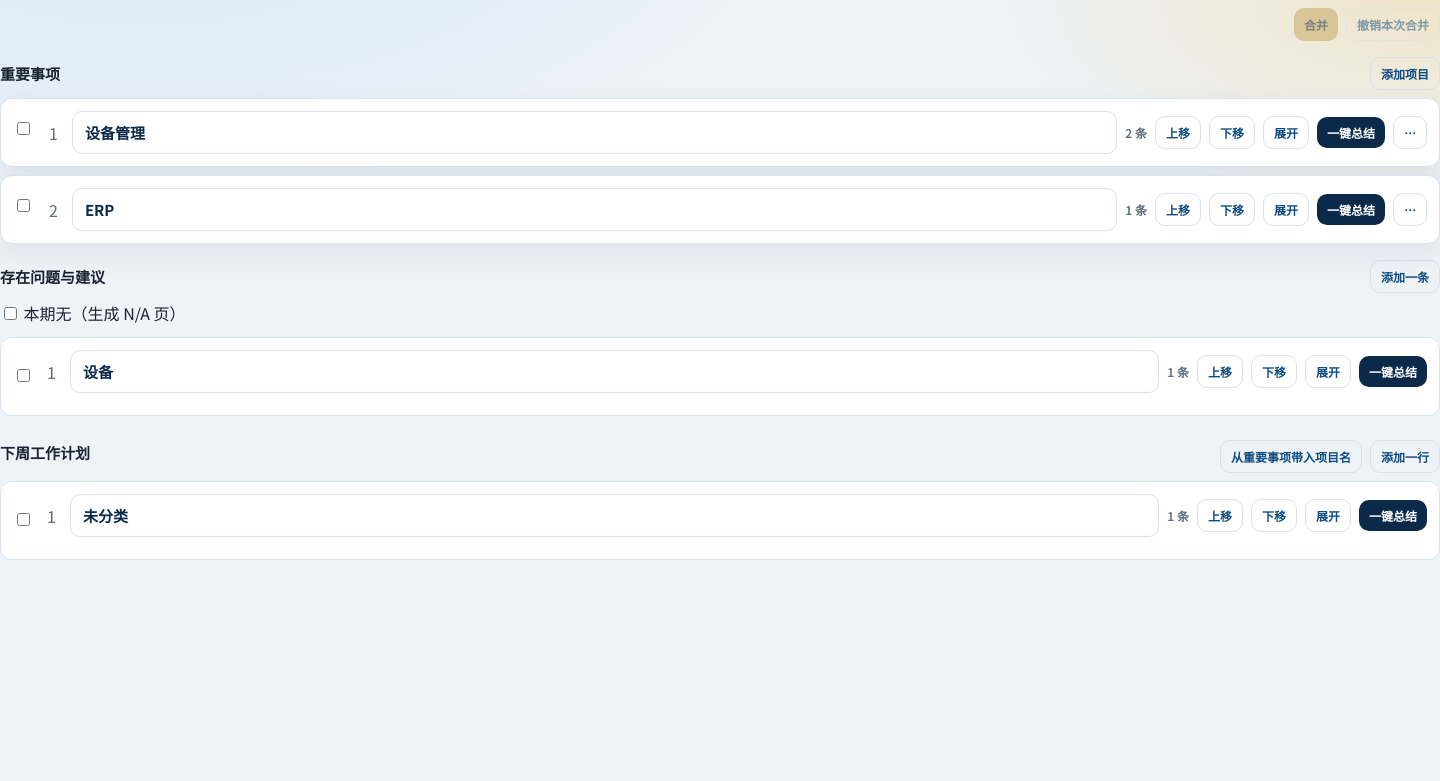
Test case: project bullets stay a single textarea › each expanded project keeps its own single textarea
The image size is (1440, 781).
Click the button with aria-label "展开 设备管理" at (1286, 132), box [1263, 116, 1309, 149]
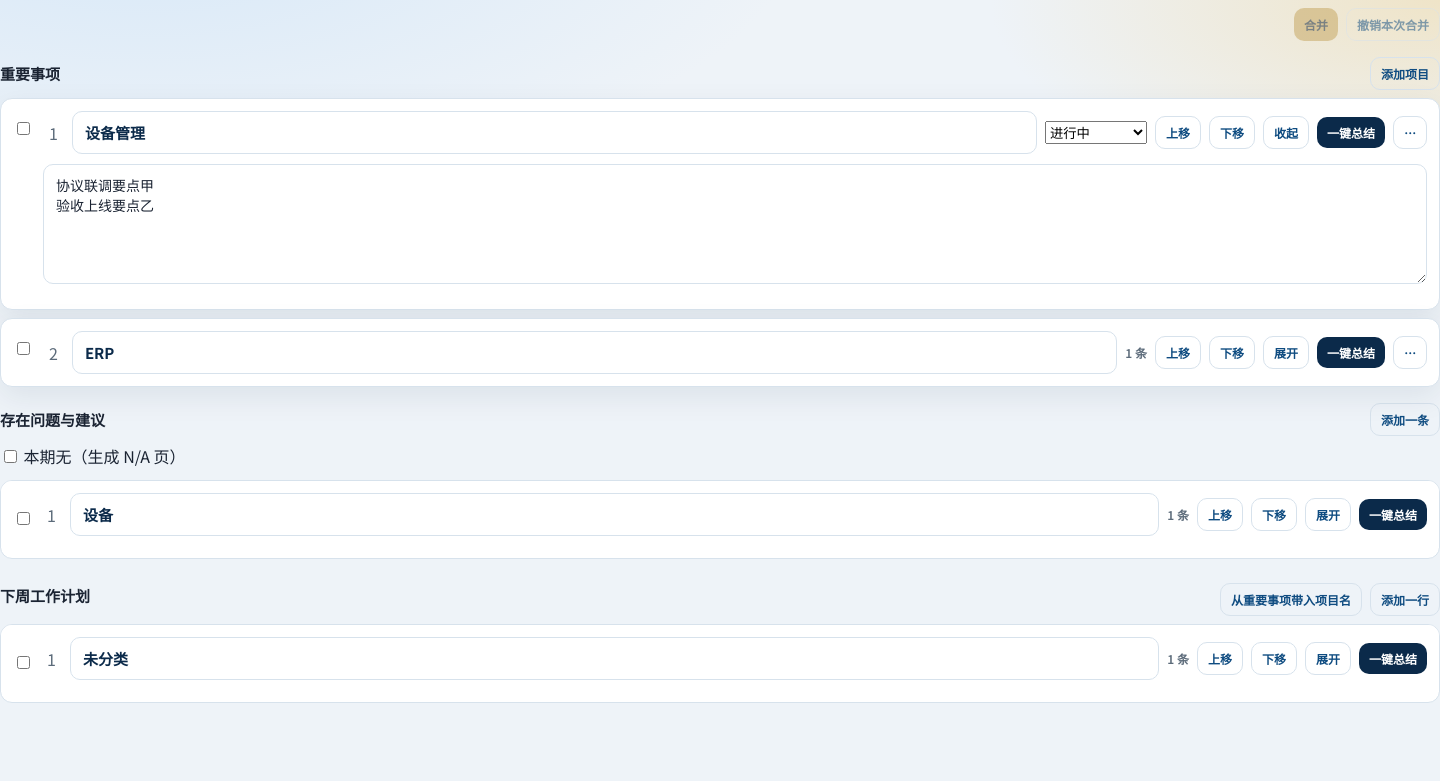
Click the button with aria-label "展开 ERP" at (1286, 352), box [1263, 336, 1309, 369]
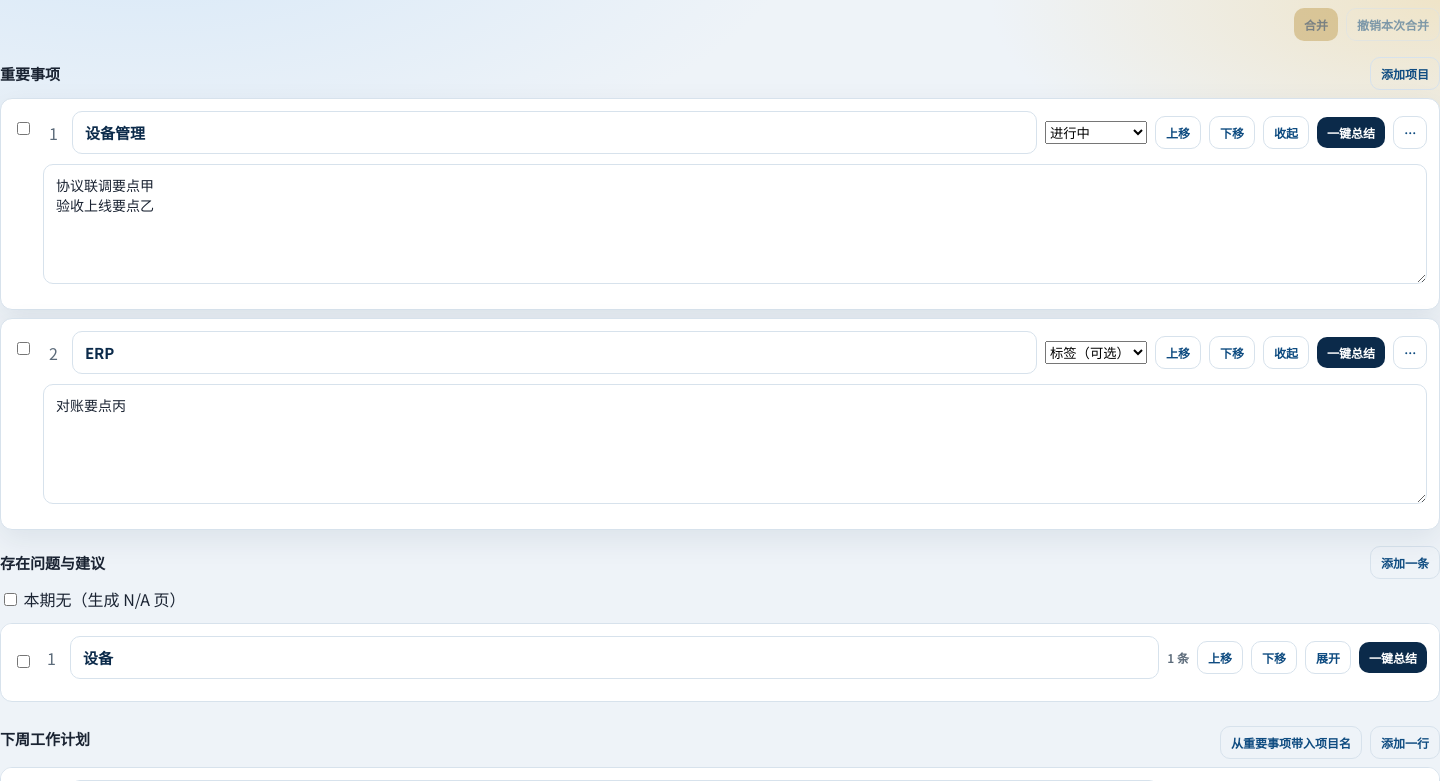
Expected: the 1st button "一键总结" is shown, [1317, 117, 1385, 148]
Now the number of text boxes is 2, box [43, 164, 1427, 284]; [43, 384, 1427, 504]
Now the text box named "进展要点 ERP" holds "对账要点丙", box [43, 384, 1427, 504]
